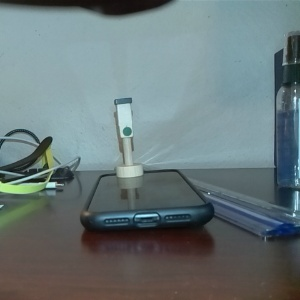traffic light green: (110, 97, 144, 180)
